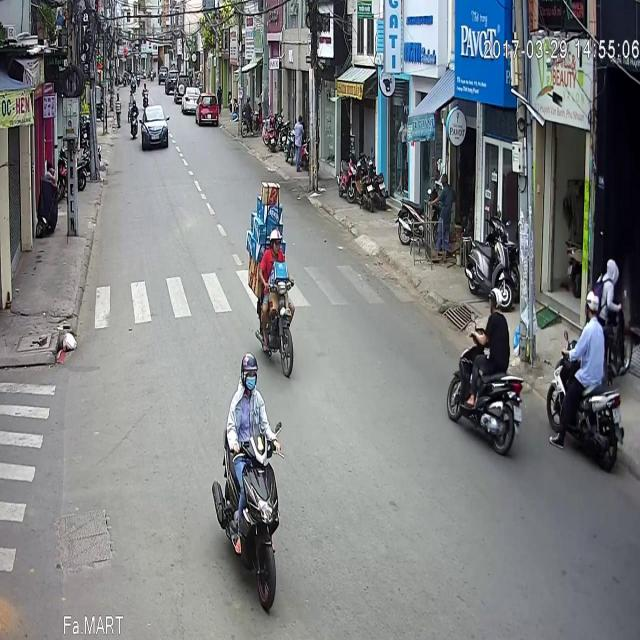car: (140, 46, 168, 92), (195, 36, 217, 70), (181, 28, 201, 57)
motorcycle: (212, 294, 282, 609), (546, 232, 624, 419), (444, 229, 520, 399), (256, 175, 294, 320), (130, 42, 138, 81), (141, 24, 150, 49)
